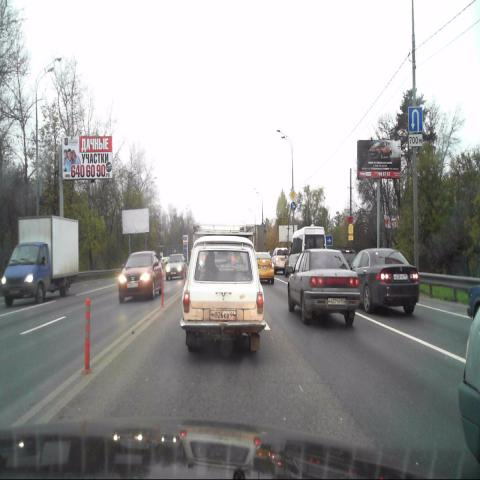6_3_1: (409, 108, 422, 132)
